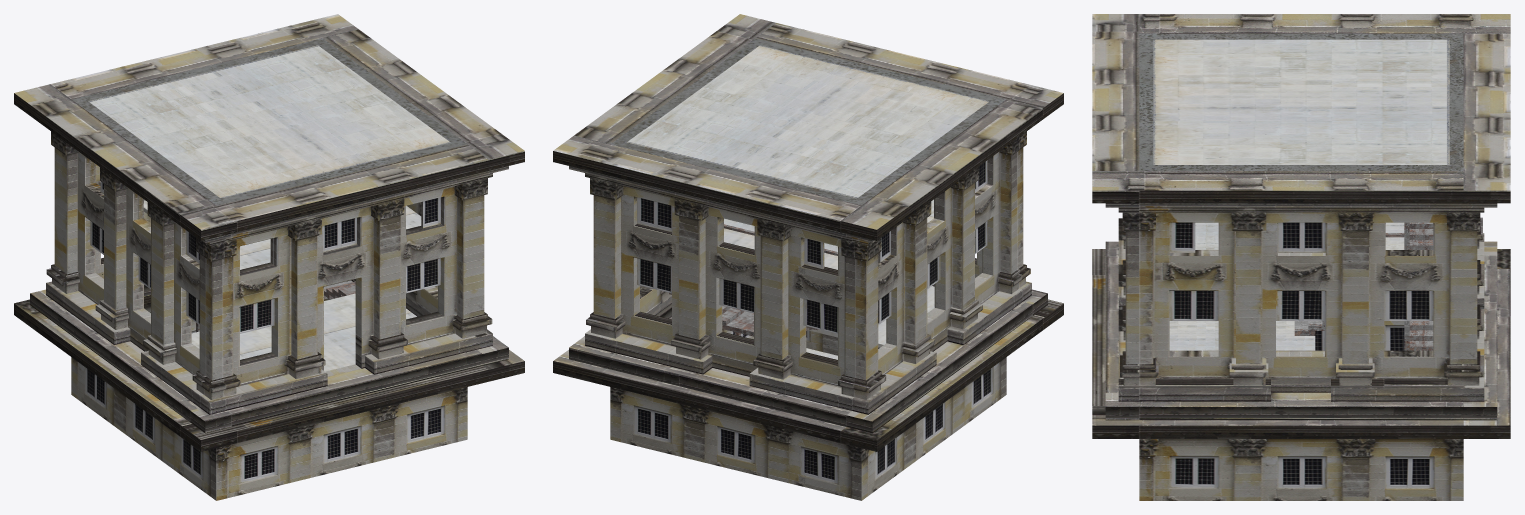
The model's file is BagBuilding5High.fbx.
The picture shows the model from 3 angles, left to right: view 1: azimuth 30°, elevation 25°; view 2: azimuth 150°, elevation 25°; view 3: azimuth 270°, elevation 25°; orthographic projection. The views are drawn at different scales.
Visible parts, largest first — view 1: main300, roof300, roofRim300, floor300; view 2: main300, roof300, roofRim300, floor300, stair300; view 3: main300, roof300, roofRim300, floor300, stair300.
Part boxes in pixels (x1,y1,x2,y2): main300: (14,14,524,500); roof300: (88,45,450,198); roofRim300: (71,38,466,205); floor300: (143,200,421,371); main300: (553,14,1063,500); roof300: (627,45,989,198); roofRim300: (611,38,1006,205); floor300: (724,199,934,359); stair300: (669,292,818,336); main300: (1092,14,1510,500); roof300: (1153,39,1449,165); roofRim300: (1139,33,1463,170); floor300: (1169,222,1404,350); stair300: (1294,222,1433,350).
Size of the model in its own units: 18.94 by 16.5 by 18.94.
